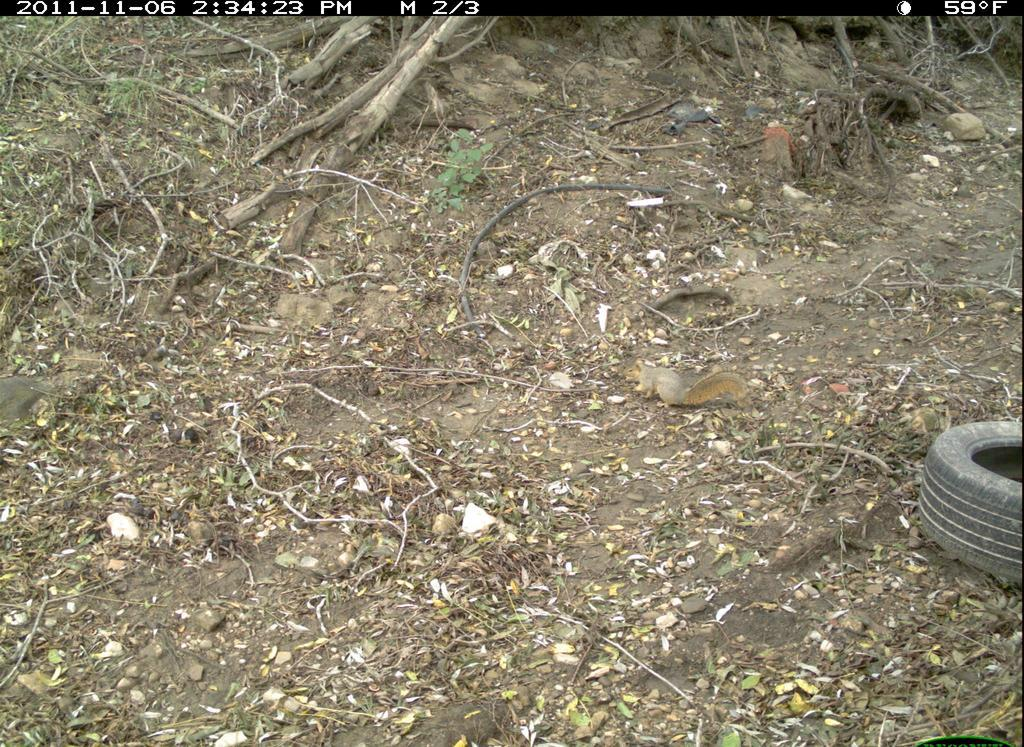squirrel: (614, 358, 756, 410)
